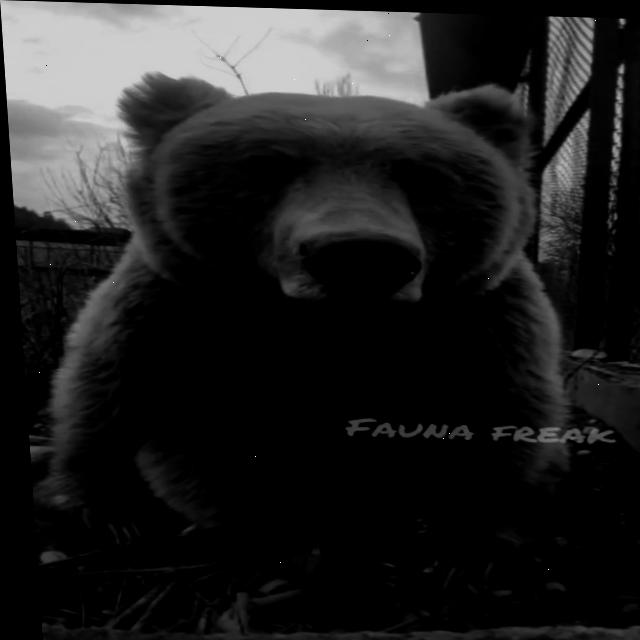Bear: (6, 65, 587, 622)
